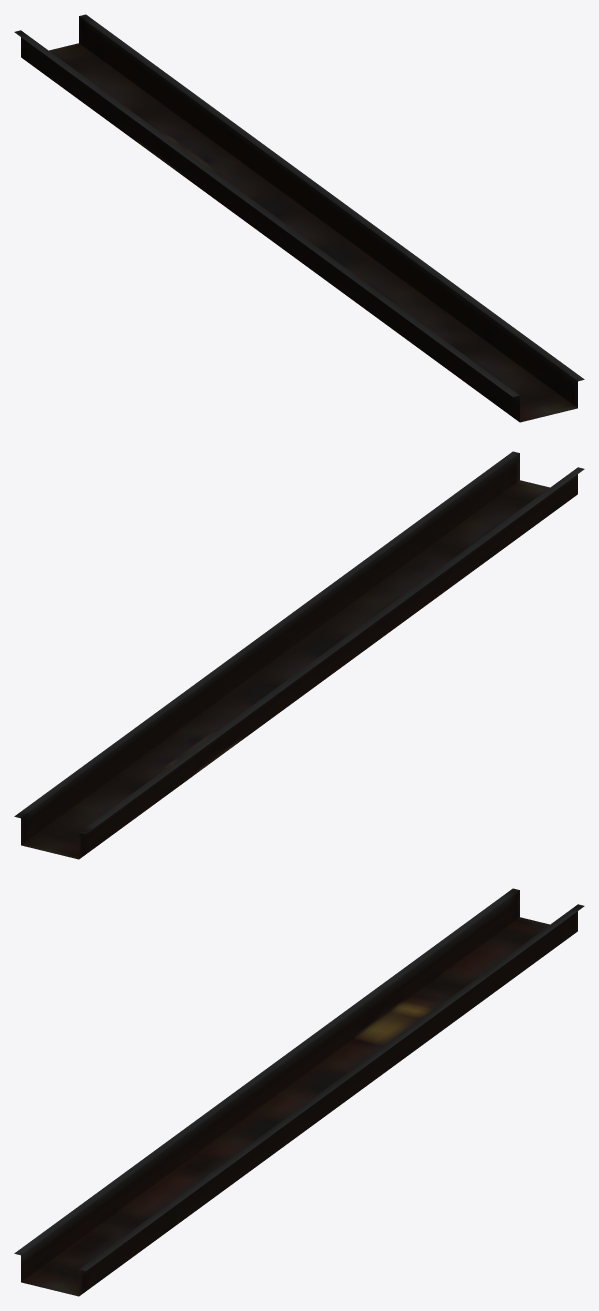
File: Panel_12.FBX
3 views of the same model, one above another, from view 1: azimuth 30°, elevation 25°; view 2: azimuth 150°, elevation 25°; view 3: azimuth 330°, elevation 25° (orthographic).
Visible parts, largest first — view 1: Panel_12; view 2: Panel_12; view 3: Panel_12.
Part boxes in pixels (bbox=[...]): Panel_12: bbox=[14, 14, 584, 422]; Panel_12: bbox=[14, 451, 584, 859]; Panel_12: bbox=[14, 888, 584, 1296].
Size of the model in its own units: 25 by 8.97 by 300.
